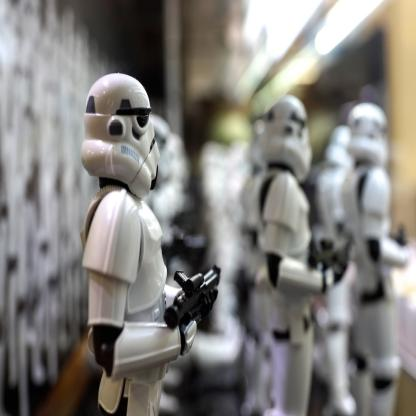Helmet: (79, 73, 159, 190), (258, 97, 320, 180), (348, 106, 388, 162), (326, 128, 354, 168)
